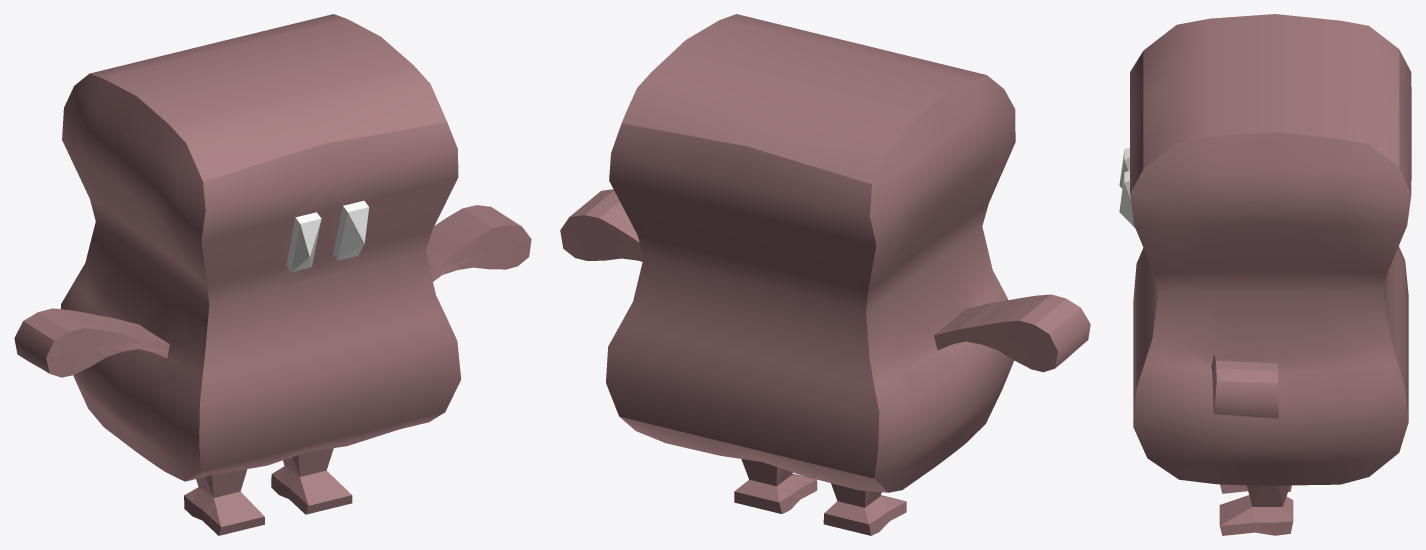
File: personagem_1 versao_Final_fbx_sem turbo.fbx
3 renders of one model, left to right at view 1: azimuth 30°, elevation 25°; view 2: azimuth 150°, elevation 25°; view 3: azimuth 270°, elevation 25°, orthographic. The views are drawn at different scales.
Parts seen in each view (by area): view 1: Personagem; view 2: Personagem; view 3: Personagem.
Part boxes in pixels (bbox=[...]): Personagem: bbox=[14, 14, 531, 535]; Personagem: bbox=[560, 14, 1090, 535]; Personagem: bbox=[1119, 14, 1411, 535].
Size of the model in its own units: 6.71 by 5.73 by 3.52.
